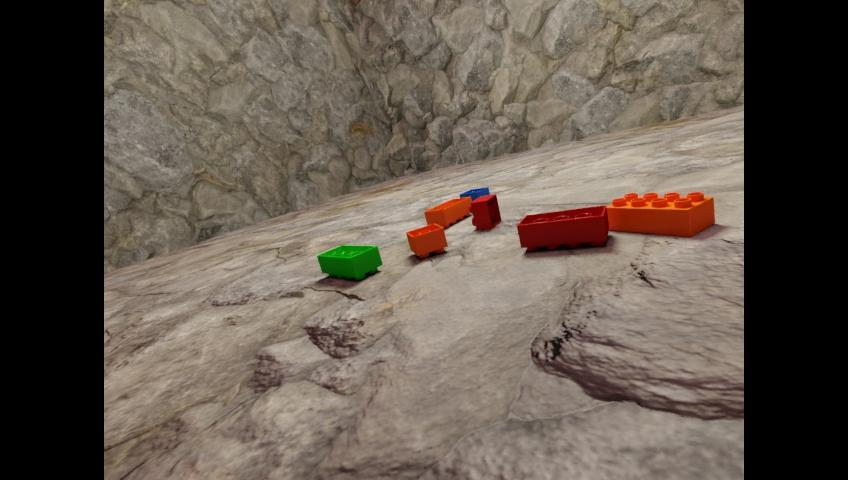2x2_blue: (459, 186, 489, 202)
2x2_orange: (405, 223, 447, 257)
2x2_red: (468, 193, 500, 229)
4x2_green: (316, 244, 382, 279)
4x2_orange: (606, 191, 714, 236), (424, 196, 471, 227)
4x2_red: (516, 204, 608, 250)
